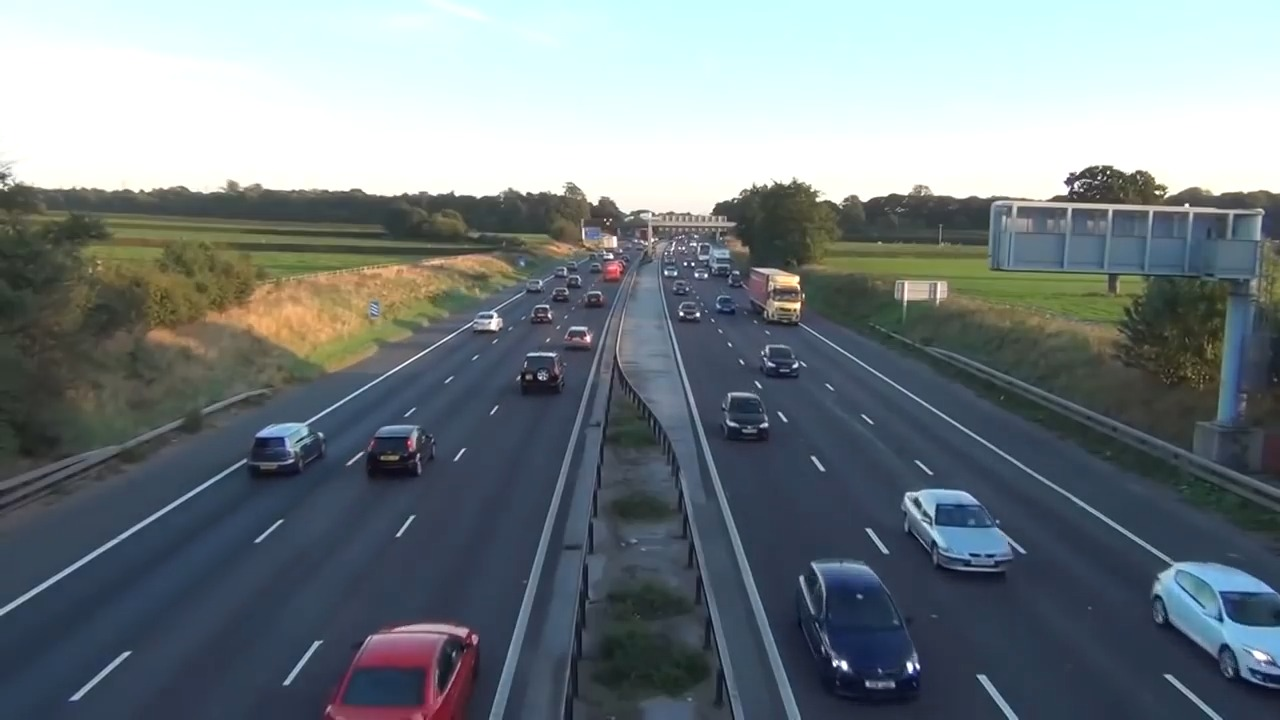truck: (749, 264, 805, 327)
